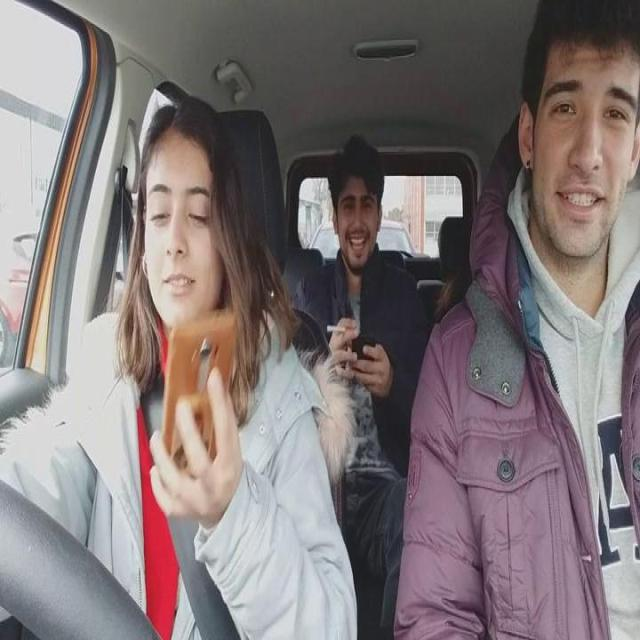phone: (162, 309, 238, 472)
